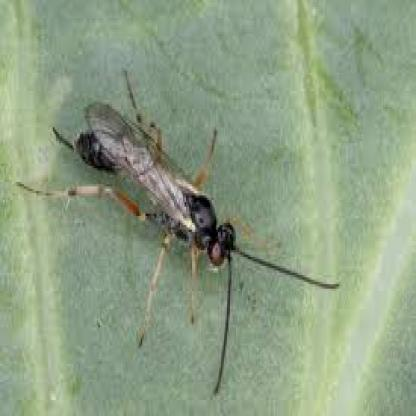sawfly: (13, 73, 335, 393)
